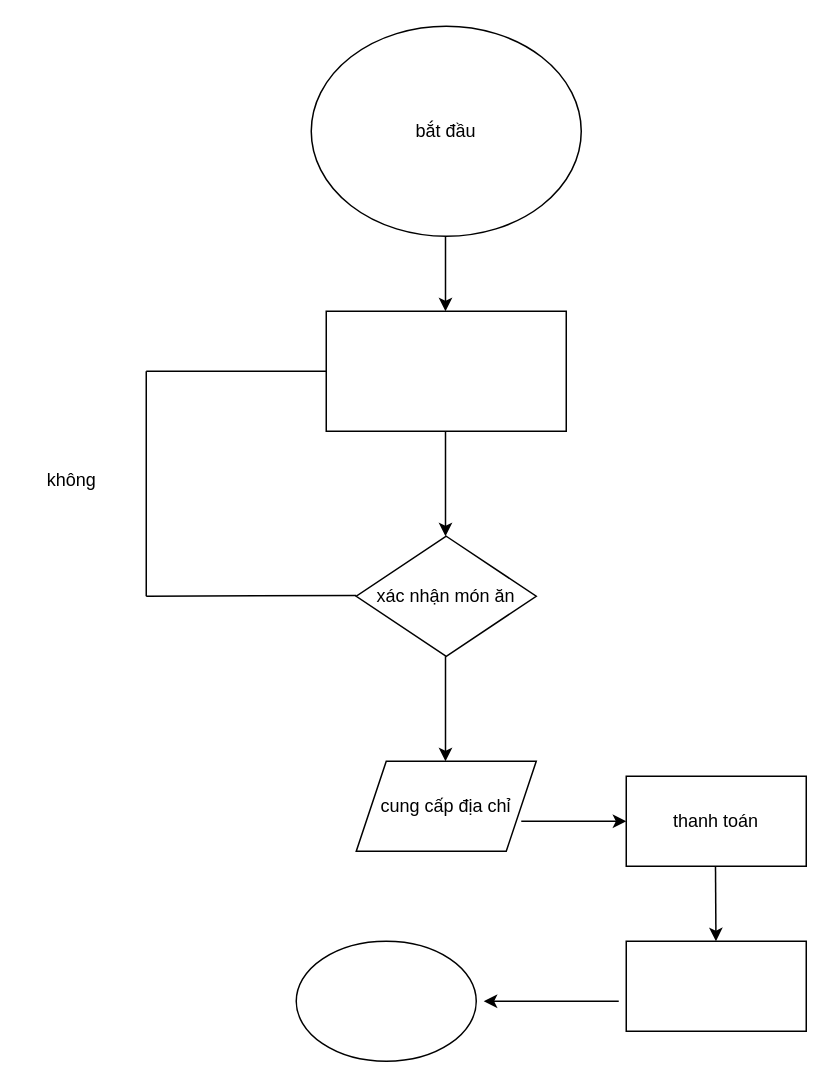
Some shapes in this 833 by 1088 pixel diagram are drawn without their labels. The centre of each missing label's shape, as x and y in pixels:
"chọn món ăn từ menu" goes at (445,370).
"nhận món ăn" goes at (715,985).
